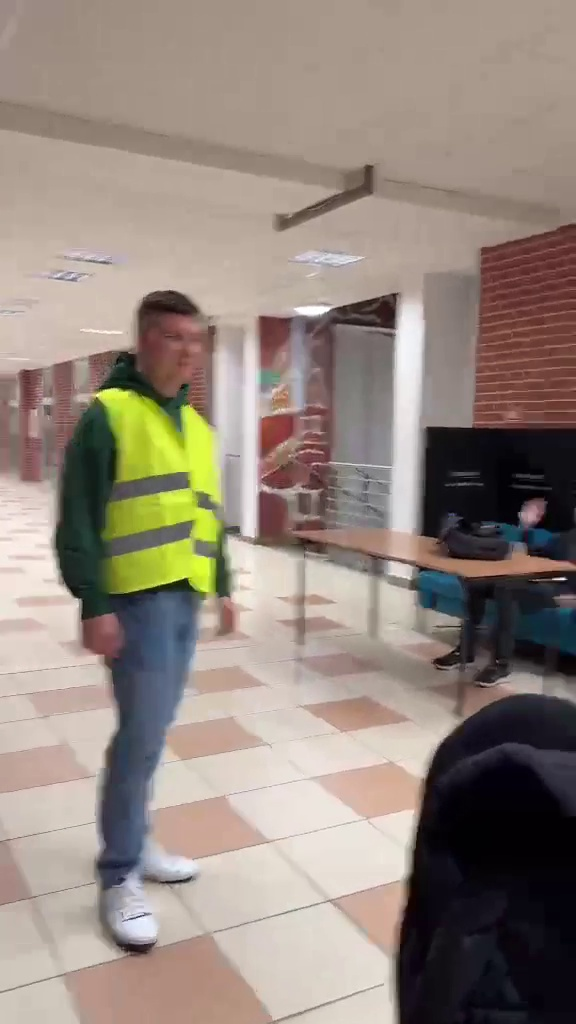vest: (53, 288, 238, 974)
